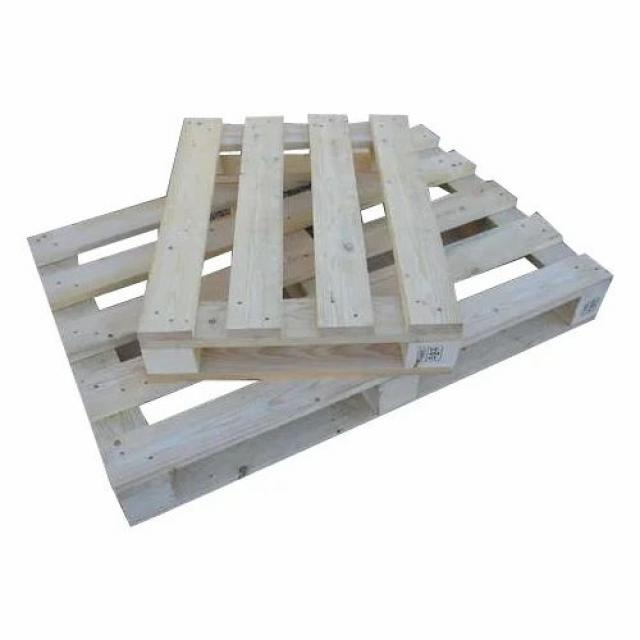Palette: (23, 115, 614, 539), (142, 92, 469, 387)
